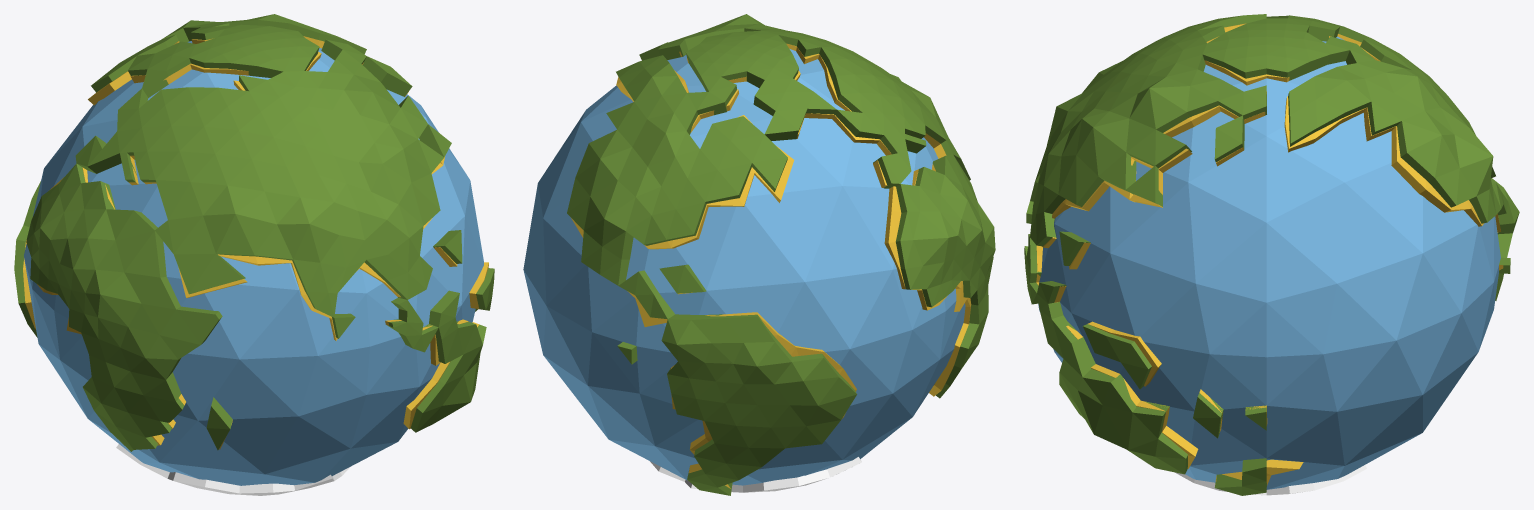
The picture shows the model from 3 angles, left to right: view 1: azimuth 30°, elevation 25°; view 2: azimuth 150°, elevation 25°; view 3: azimuth 270°, elevation 25°; orthographic projection. The views are drawn at different scales.
Parts seen in each view (by area): view 1: 1227 Earth; view 2: 1227 Earth; view 3: 1227 Earth.
Boxes of the visible parts, x1,y1,x2,y2 form: 1227 Earth: [14, 14, 494, 495]; 1227 Earth: [523, 14, 995, 495]; 1227 Earth: [1024, 14, 1519, 495].
Size of the model in its own units: 52.94 by 52.98 by 54.43.
1 material, 1 textured.
